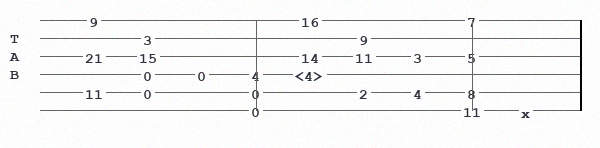0: (143, 68, 156, 81), (143, 86, 156, 99), (197, 68, 210, 81), (251, 104, 264, 117), (251, 86, 264, 99)
11: (85, 86, 107, 99), (355, 50, 377, 63), (463, 104, 485, 117)
14: (301, 50, 323, 63)
15: (139, 50, 161, 63)
16: (301, 14, 323, 27)
2: (359, 86, 372, 99)
21: (85, 50, 107, 63)
3: (143, 32, 156, 45), (413, 50, 426, 63)
4: (251, 68, 264, 81), (413, 86, 426, 99)
5: (467, 50, 480, 63)
7: (467, 14, 480, 27)
8: (467, 86, 480, 99)
9: (89, 14, 102, 27), (359, 32, 372, 45)
harmonic: (295, 68, 328, 81)
x: (521, 105, 534, 115)
